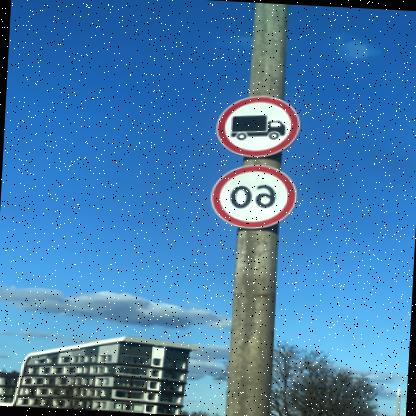speedlimit: (210, 160, 300, 228)
